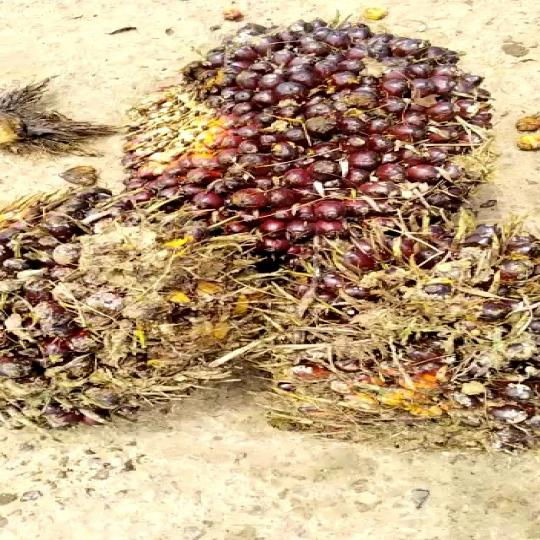kurang masak: (105, 19, 526, 263), (0, 181, 271, 434)
